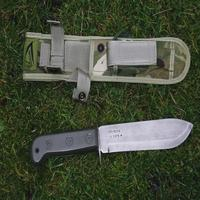knife: (24, 114, 197, 163)
